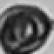correct: (0, 4, 54, 54)
